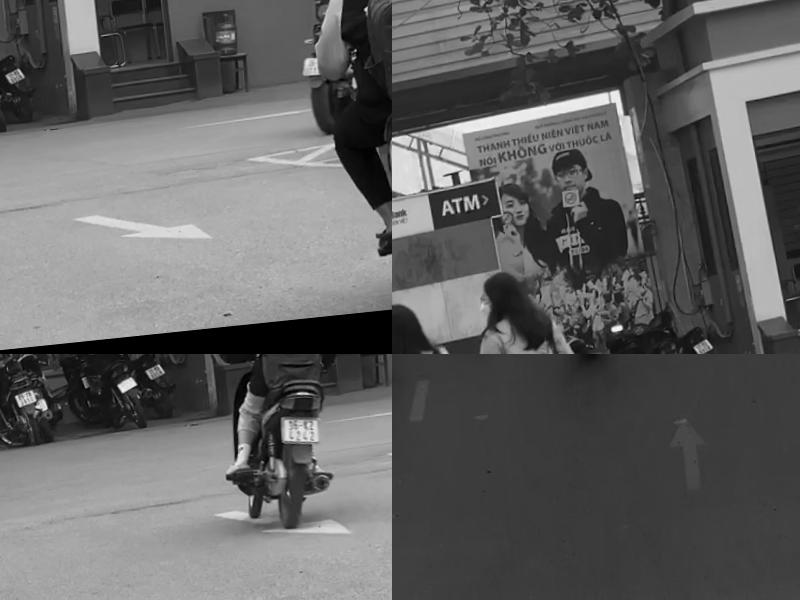license_plate: (272, 421, 316, 458), (110, 381, 133, 401), (8, 393, 32, 412), (139, 369, 161, 388), (0, 72, 20, 91), (684, 349, 705, 354)
motorcyclist: (298, 0, 392, 327), (202, 354, 345, 543)
